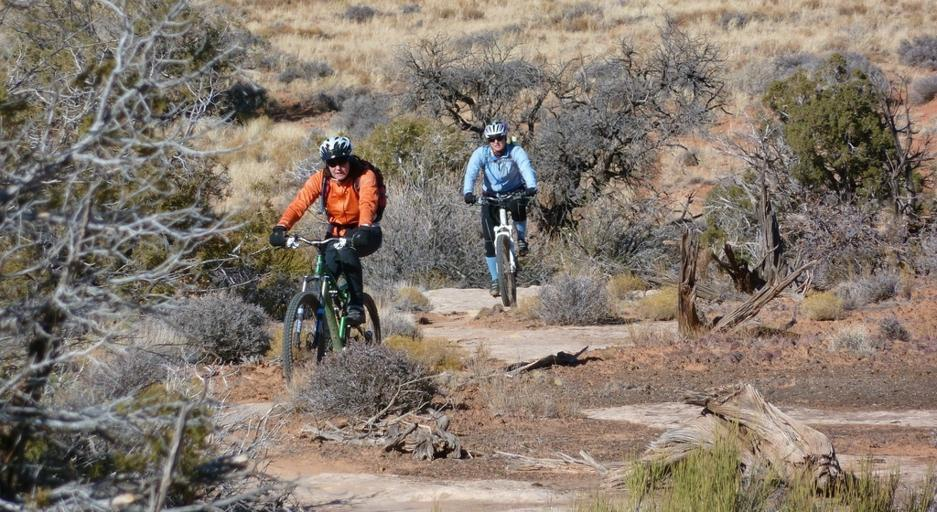non-vehicle: (273, 232, 382, 385), (466, 188, 537, 305)
